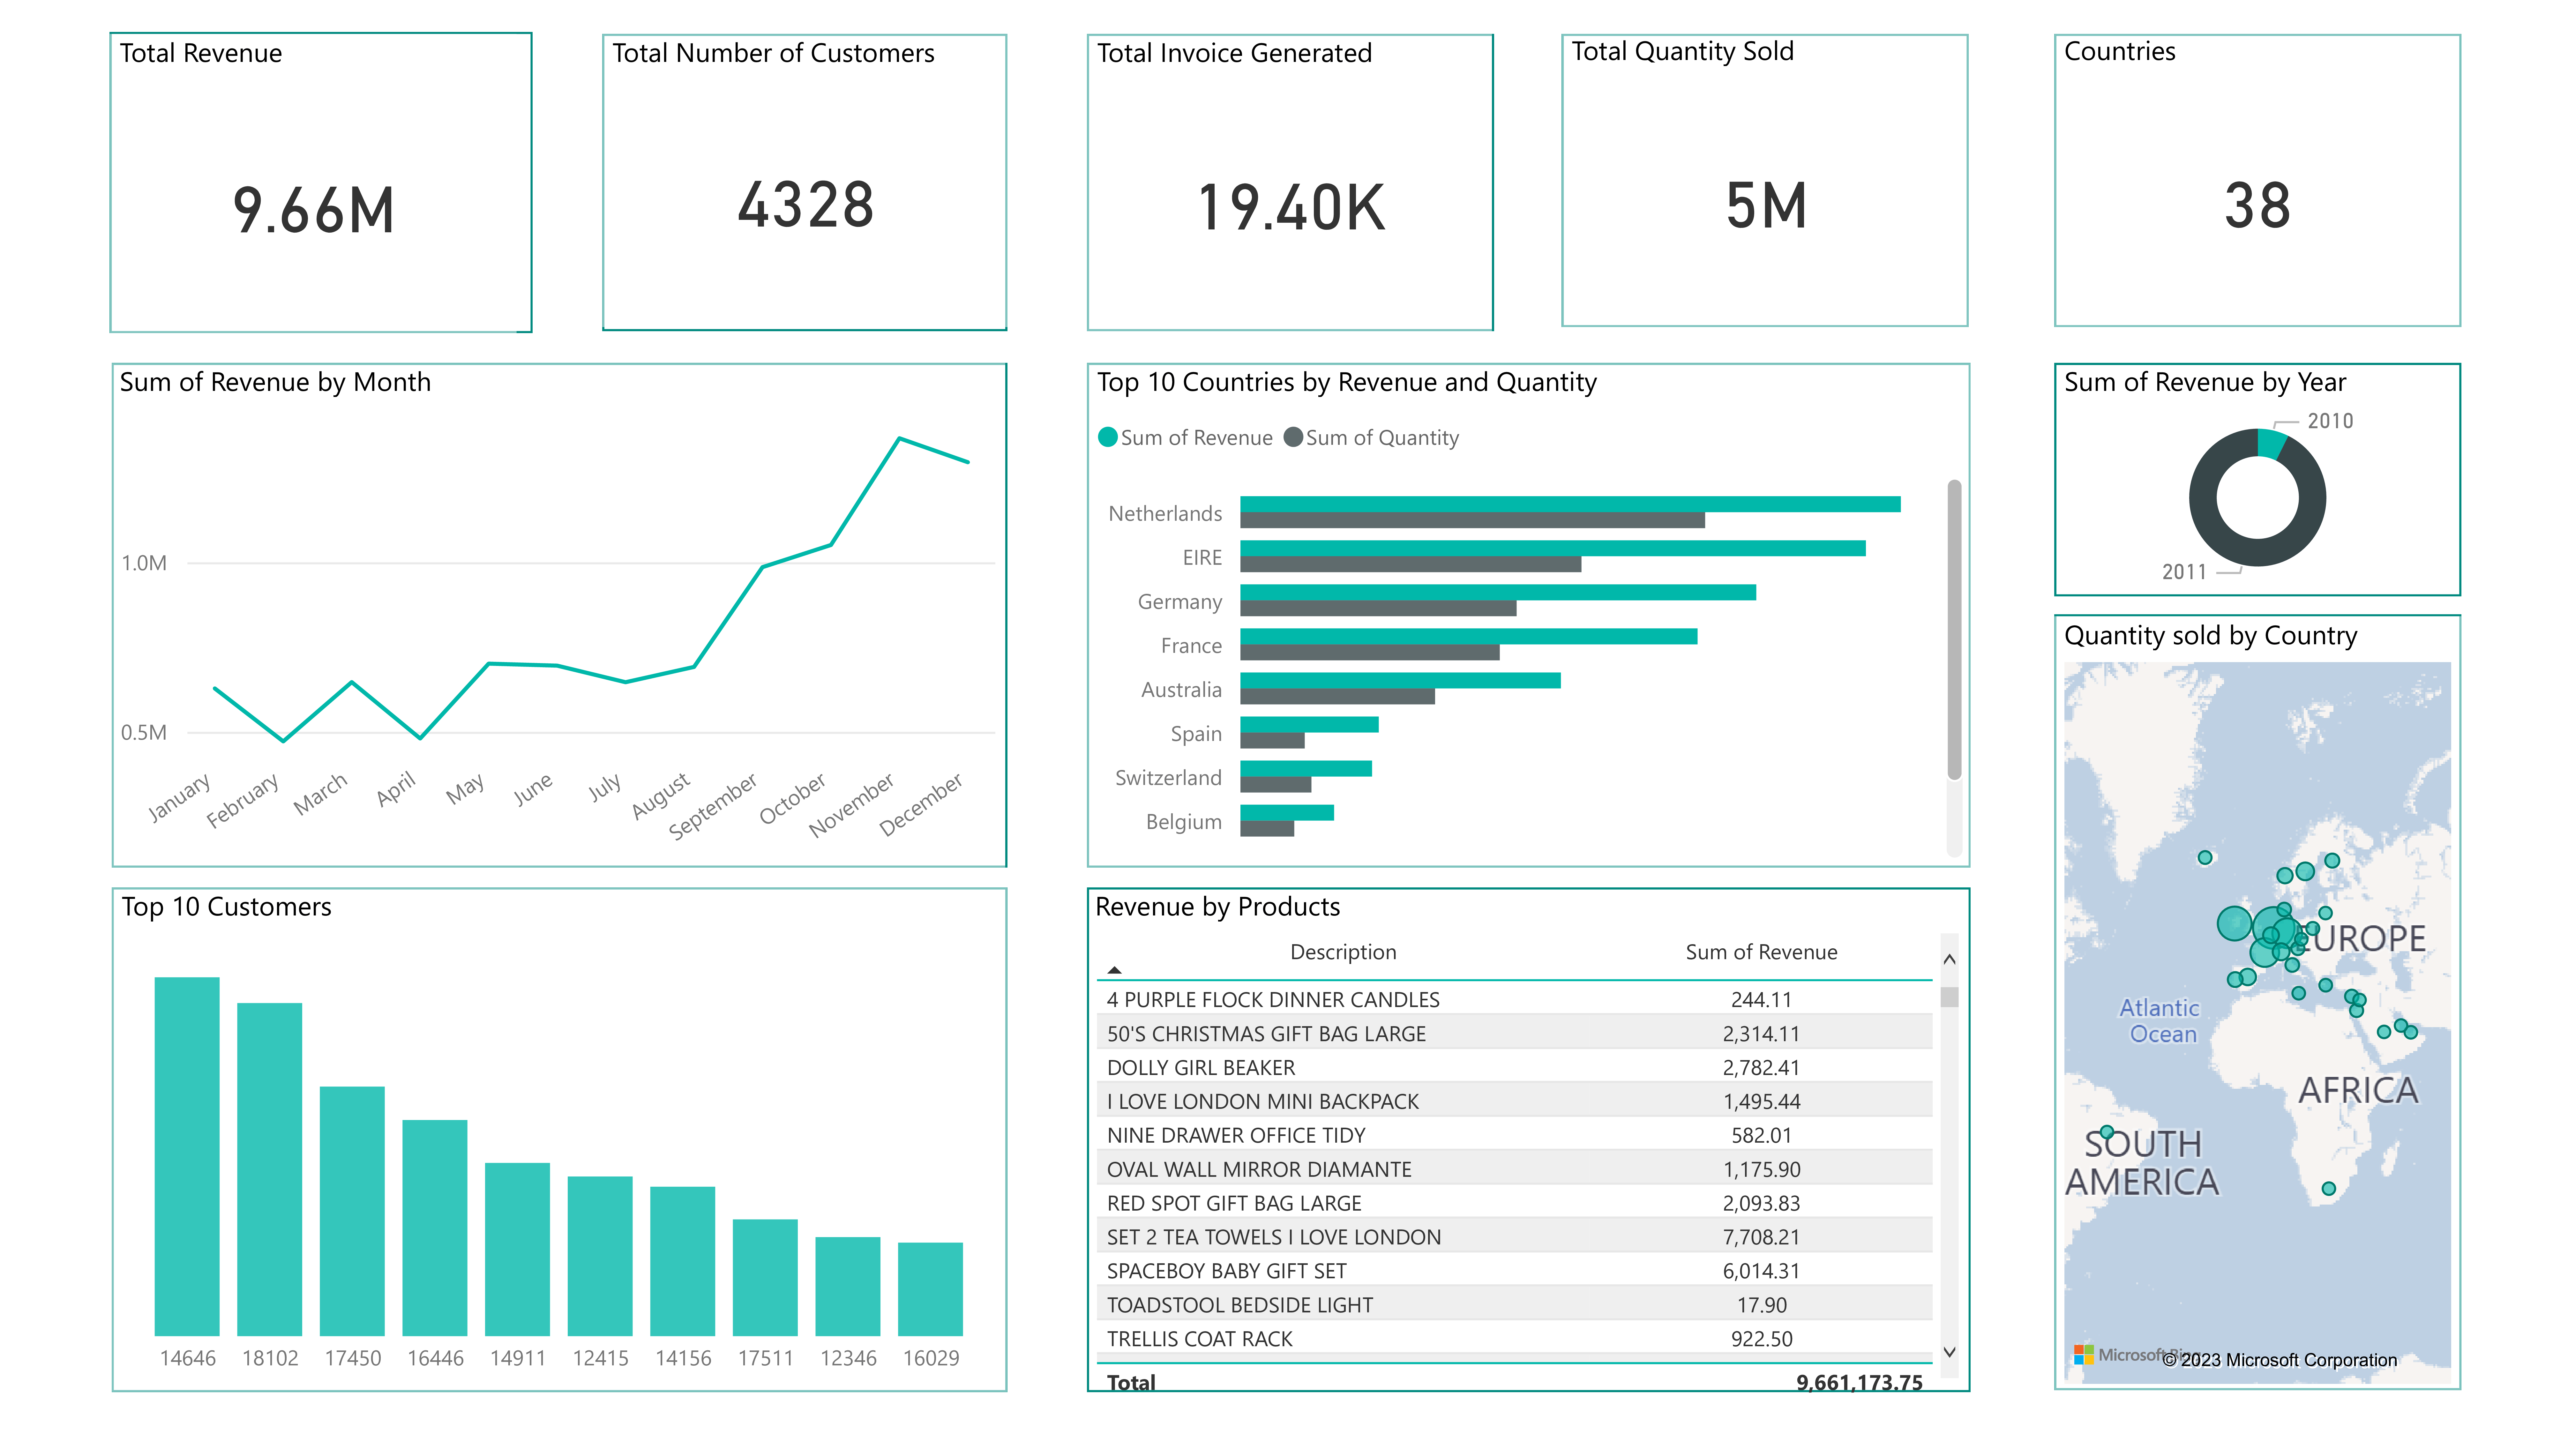

What the dashboard file says about the page in this screenshot:
{"tool":"powerbi","page":{"name":"Dashboard","canvas":[1280,720],"ordinal":0},"visuals":[{"type":"shape","box":[56.4,177,449.4,252.9],"z":0},{"type":"shape","box":[55.4,10.7,212,150.8],"z":1000},{"type":"shape","box":[544.7,11.7,204.3,148.8],"z":2000},{"type":"shape","box":[783,11.7,204.3,146.9],"z":3000},{"type":"shape","box":[1030,11.7,204.3,146.9],"z":4000},{"type":"shape","box":[302.5,11.7,203.3,148.8],"z":5000},{"type":"shape","box":[544.7,177,442.6,252.9],"z":6000},{"type":"shape","box":[56,440,449,253],"z":7000},{"type":"shape","box":[545,440,443,253],"z":8000},{"type":"shape","box":[1030,177,204.3,116.7],"z":9000},{"type":"shape","box":[1030,303.5,204.3,389.1],"z":11000},{"type":"lineChart","fields":{"Category":["Online Retail.InvoiceDate.Variation.Date Hierarchy.Month"],"Y":["Sum(Online Retail.Revenue)"]},"box":[55.4,177,449.4,252.9],"z":12000},{"type":"clusteredBarChart","title":"Top 10 Countries by Revenue and Quantity","fields":{"Category":["Online Retail.Country"],"Y":["Sum(Online Retail.Revenue)","Sum(Online Retail.Quantity)"]},"box":[544.7,177,444.5,252.9],"z":13000},{"type":"columnChart","title":"Top 10 Customers","fields":{"Category":["Online Retail.CustomerID"],"Y":["Sum(Online Retail.Revenue)"]},"box":[56.4,439.6,449.4,252.9],"z":14000},{"type":"map","title":" Quantity sold by Country","fields":{"Category":["Online Retail.Country"],"Size":["Sum(Online Retail.Quantity)"]},"box":[1029.9,303.6,204.2,389.6],"z":15000},{"type":"card","title":"Total Revenue","fields":{"Values":["Sum(Online Retail.Revenue)"]},"box":[55.4,11.7,204.3,152.7],"z":16000},{"type":"card","title":"Total Invoice Generated","fields":{"Values":["Count(Online Retail.InvoiceNo)"]},"box":[544.7,11.7,203.3,149.8],"z":17000},{"type":"card","title":"Total Number of Customers","fields":{"Values":["Count(Online Retail.CustomerID)"]},"box":[302.5,11.7,204.3,146.9],"z":18000},{"type":"card","title":"Total Quantity Sold","fields":{"Values":["Sum(Online Retail.Quantity)"]},"box":[783,10.7,204.3,149.8],"z":19000},{"type":"card","title":"Countries","fields":{"Values":["Count(Online Retail.Country)"]},"box":[1030,10.7,204.3,149.8],"z":20000},{"type":"donutChart","fields":{"Y":["Sum(Online Retail.Revenue)"],"Category":["Online Retail.InvoiceDate.Variation.Date Hierarchy.Year"]},"box":[1030,177,204.3,116.7],"z":21000},{"type":"tableEx","title":"Revenue by Products","fields":{"Values":["Online Retail.Description","Sum(Online Retail.Revenue)"]},"box":[543.6,439.7,443.3,259.7],"z":22000}]}

Visuals, with their boxes in screenshot pixels (x1, y1, x2, y2), scaled from the page's 1280x720 canvas onto the 2553x1456 screenshot:
shape: BBox(112, 358, 1009, 869)
shape: BBox(110, 22, 533, 327)
shape: BBox(1086, 24, 1494, 325)
shape: BBox(1562, 24, 1969, 321)
shape: BBox(2055, 24, 2462, 321)
shape: BBox(603, 24, 1009, 325)
shape: BBox(1086, 358, 1969, 869)
shape: BBox(112, 890, 1007, 1401)
shape: BBox(1087, 890, 1971, 1401)
shape: BBox(2055, 358, 2462, 594)
shape: BBox(2055, 614, 2462, 1400)
lineChart - Online Retail.InvoiceDate.Variation.Date Hierarchy.Month x Sum(Online Retail.Revenue): BBox(110, 358, 1007, 869)
"Top 10 Countries by Revenue and Quantity" clusteredBarChart: BBox(1086, 358, 1973, 869)
"Top 10 Customers" columnChart: BBox(112, 889, 1009, 1400)
" Quantity sold by Country" map: BBox(2054, 614, 2461, 1402)
"Total Revenue" card: BBox(110, 24, 518, 332)
"Total Invoice Generated" card: BBox(1086, 24, 1492, 327)
"Total Number of Customers" card: BBox(603, 24, 1011, 321)
"Total Quantity Sold" card: BBox(1562, 22, 1969, 325)
"Countries" card: BBox(2055, 22, 2462, 325)
donutChart - Sum(Online Retail.Revenue) x Online Retail.InvoiceDate.Variation.Date Hierarchy.Year: BBox(2055, 358, 2462, 594)
"Revenue by Products" tableEx: BBox(1084, 889, 1968, 1414)
